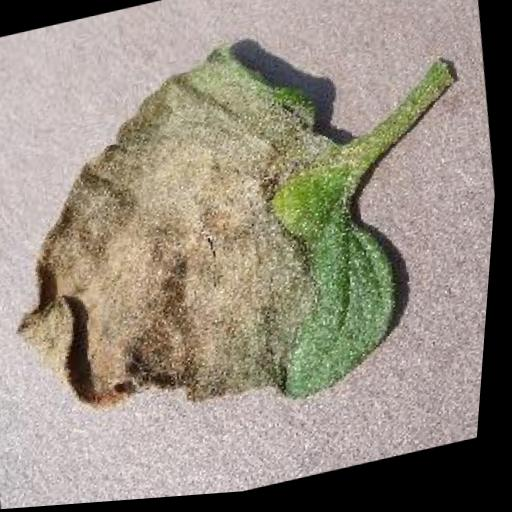Late Blight: (0, 13, 433, 470)
